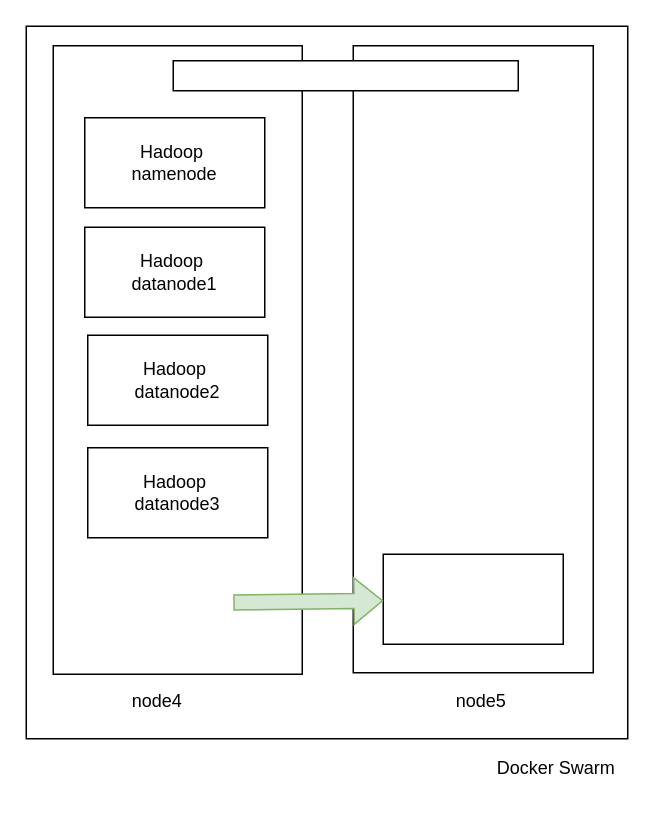
This 654x815 diagram has some shape labels left out. Here are the shapes that lost their labels. From the top down, the centre of each, then its label:
At pixel 345 75: "Overlay Network".
At pixel 472 598: "Hadoop namenode4".
